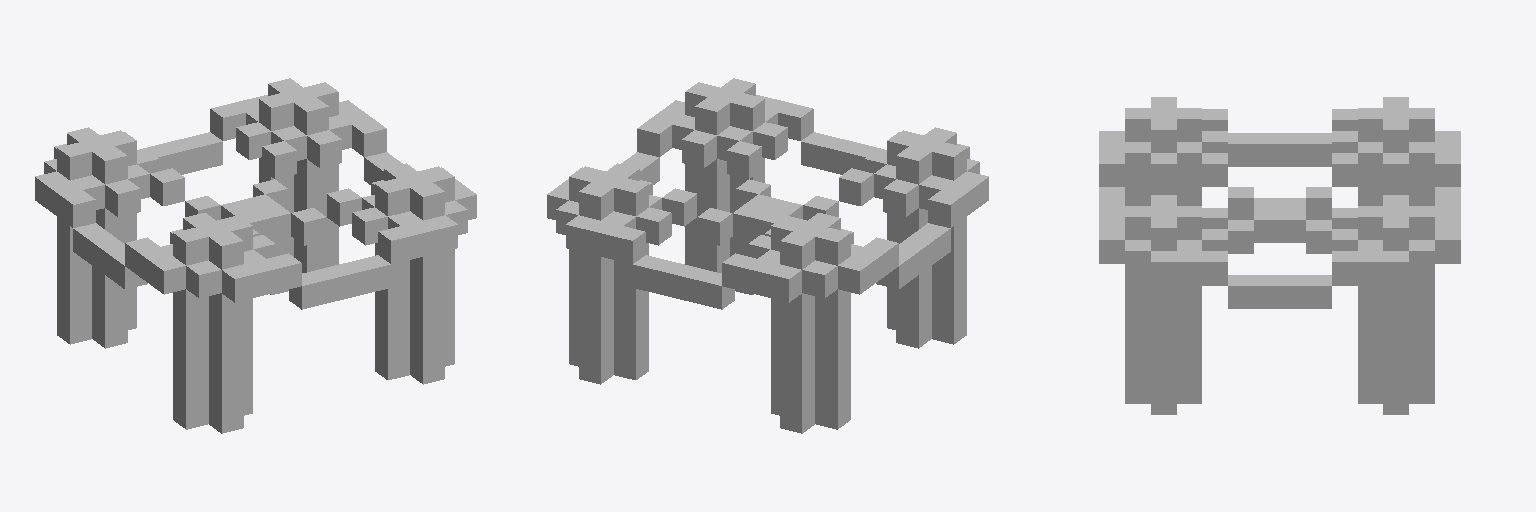
Rendered from trapworks_strings_string_l2.obj.
3 renders of one model, left to right at view 1: azimuth 30°, elevation 25°; view 2: azimuth 150°, elevation 25°; view 3: azimuth 270°, elevation 25°, orthographic.
Parts seen in each view (by area): view 1: node_0_0_0; view 2: node_0_0_0; view 3: node_0_0_0.
Boxes of the visible parts, x1,y1,x2,y2 form: node_0_0_0: [35, 78, 476, 433]; node_0_0_0: [547, 78, 988, 433]; node_0_0_0: [1099, 97, 1460, 414].
Bounding box in the file's own units: 0.875 × 0.5 × 0.875.